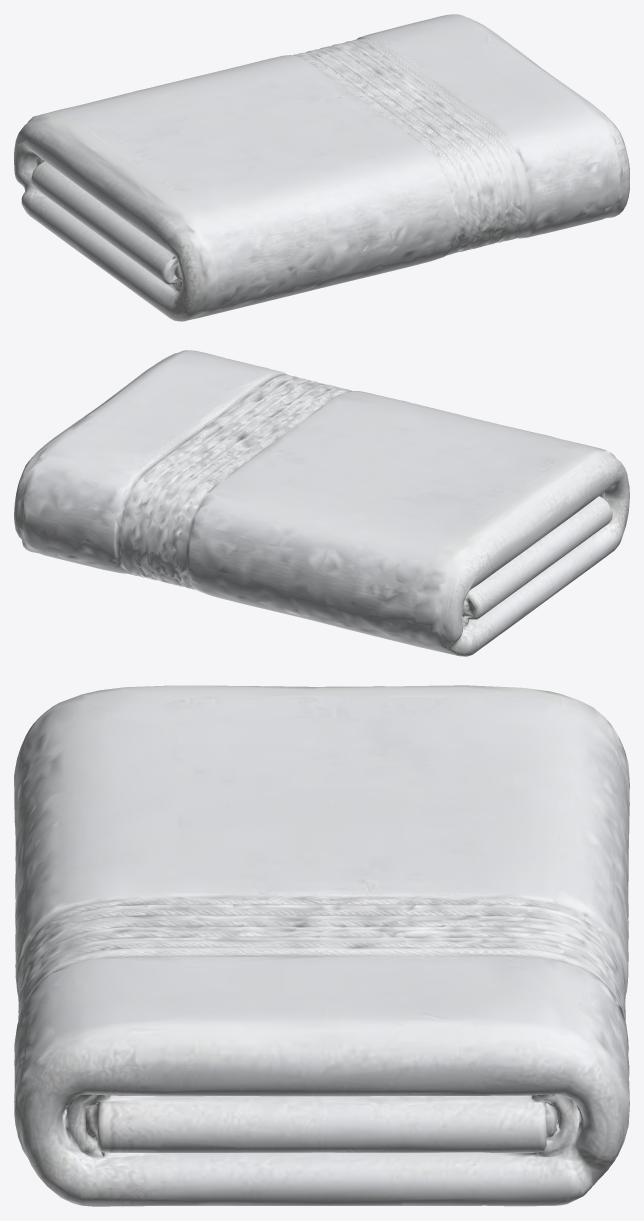
Rendered from Folded White Towel.glb.
3 renders of one model, top to bottom at view 1: azimuth 30°, elevation 25°; view 2: azimuth 150°, elevation 25°; view 3: azimuth 270°, elevation 25°, orthographic. The views are drawn at different scales.
Parts seen in each view (by area): view 1: Mesh_0.005; view 2: Mesh_0.005; view 3: Mesh_0.005.
Boxes of the visible parts, x1,y1,x2,y2 form: Mesh_0.005: [14, 14, 629, 321]; Mesh_0.005: [14, 350, 629, 656]; Mesh_0.005: [14, 685, 629, 1206].
Bounding box in the file's own units: 0.3507 × 0.0799 × 0.2483.
1 material, 1 textured.
